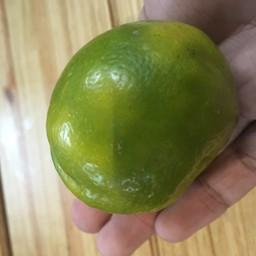Good_orange: (43, 13, 244, 216)
